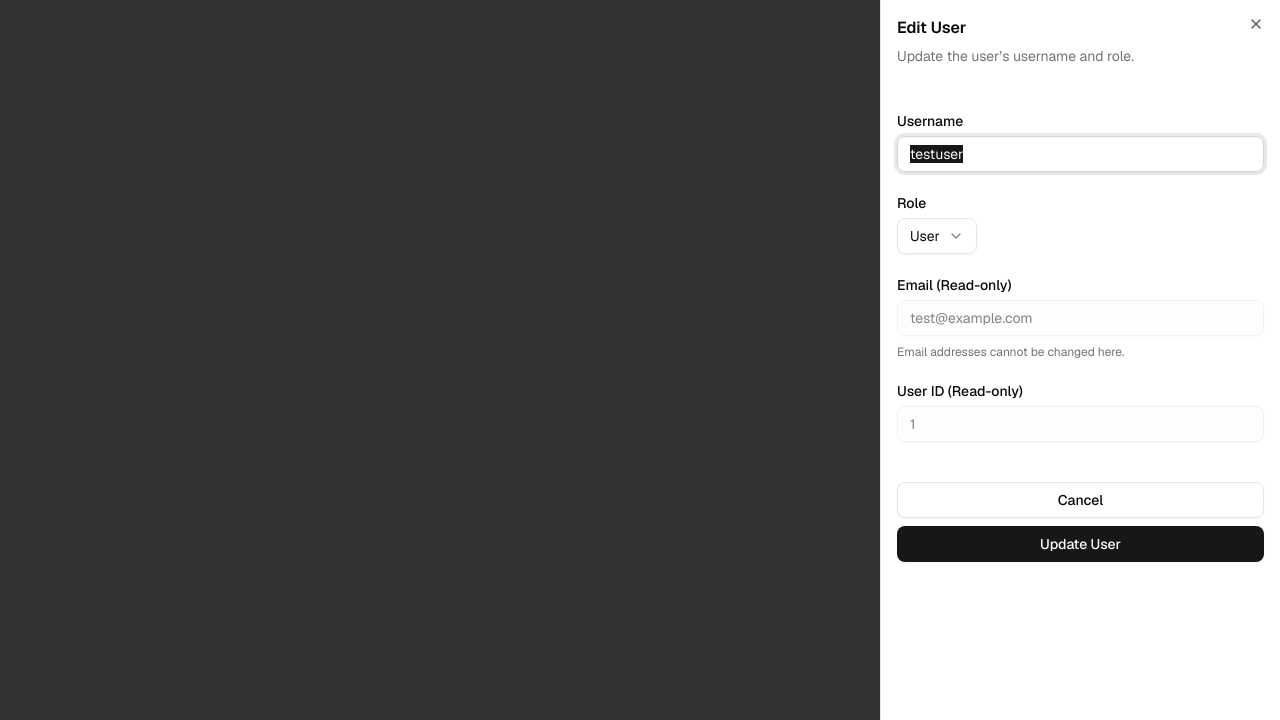
Test: UserForm Component › validates username - character constraint
The image size is (1280, 720).
Replace the text in the field with test id "username-input" with "test@user" at coordinates (1080, 154), box [897,136,1264,172]
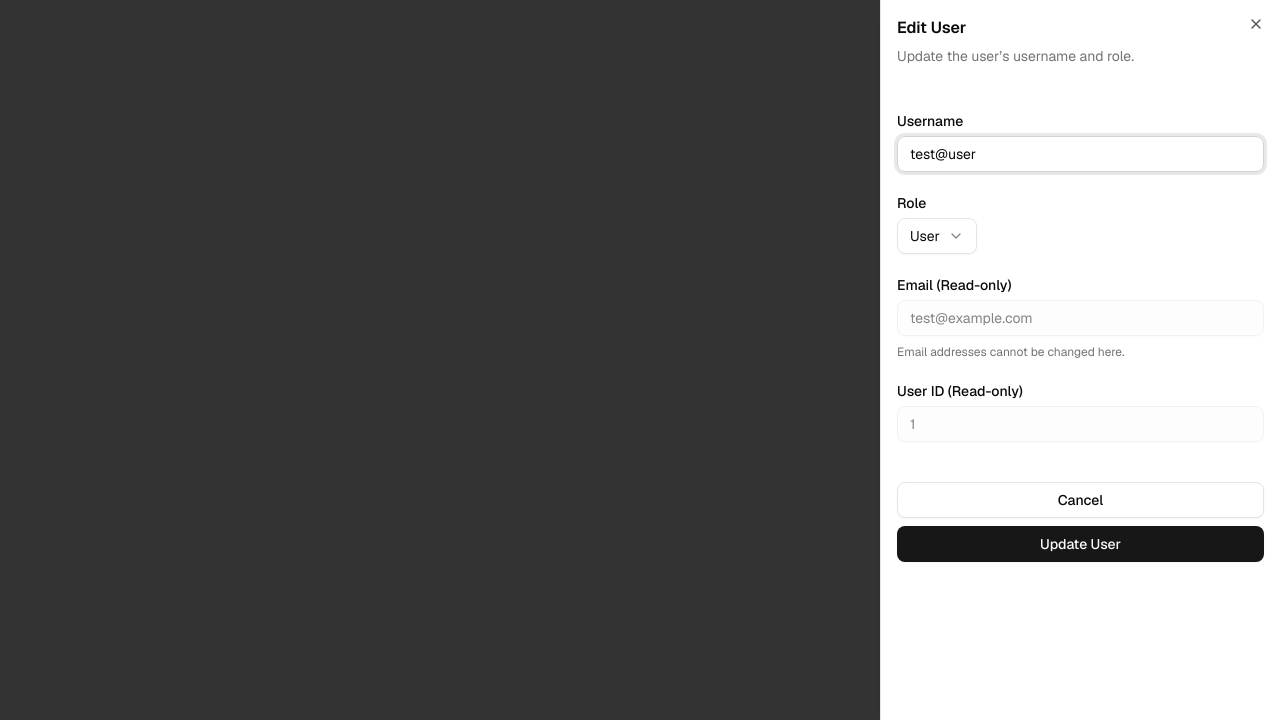
Click the button with test id "submit-button" at coordinates (1080, 544), box [897,526,1264,562]
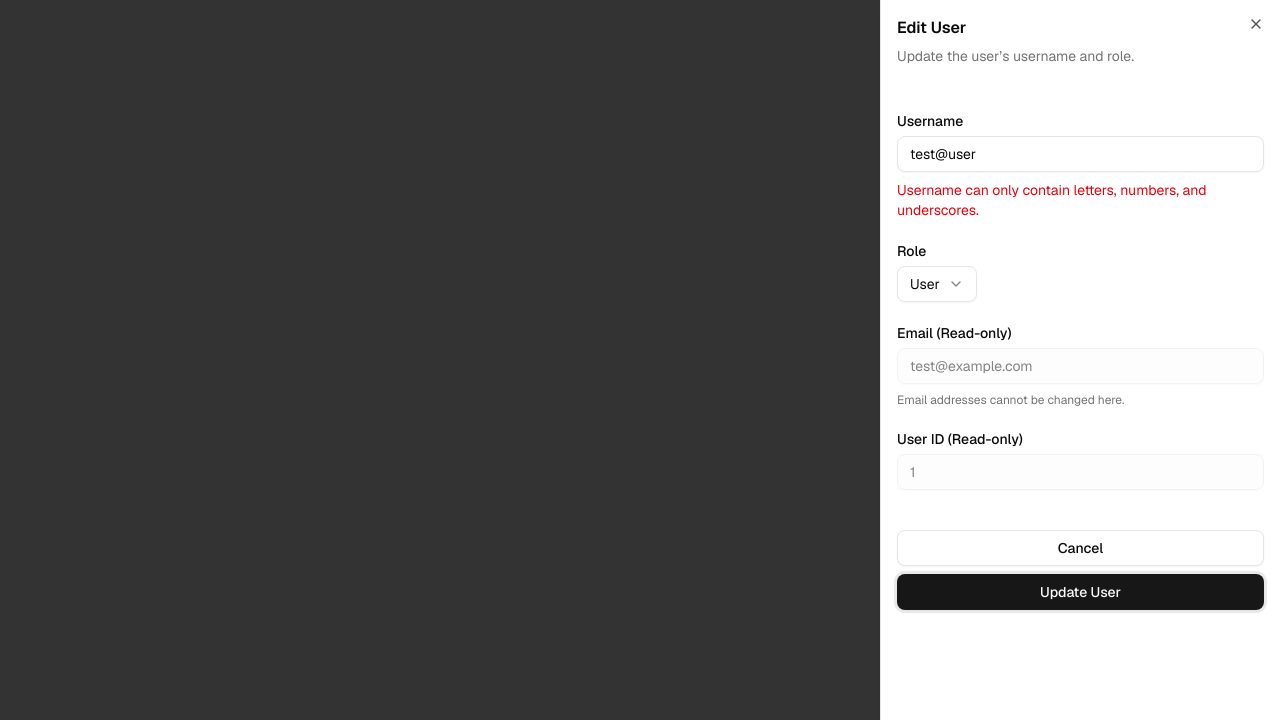
Expected: the text with test id "username-error" shows "Username can only contain letters, numbers, and underscores", [897,181,1206,219]
